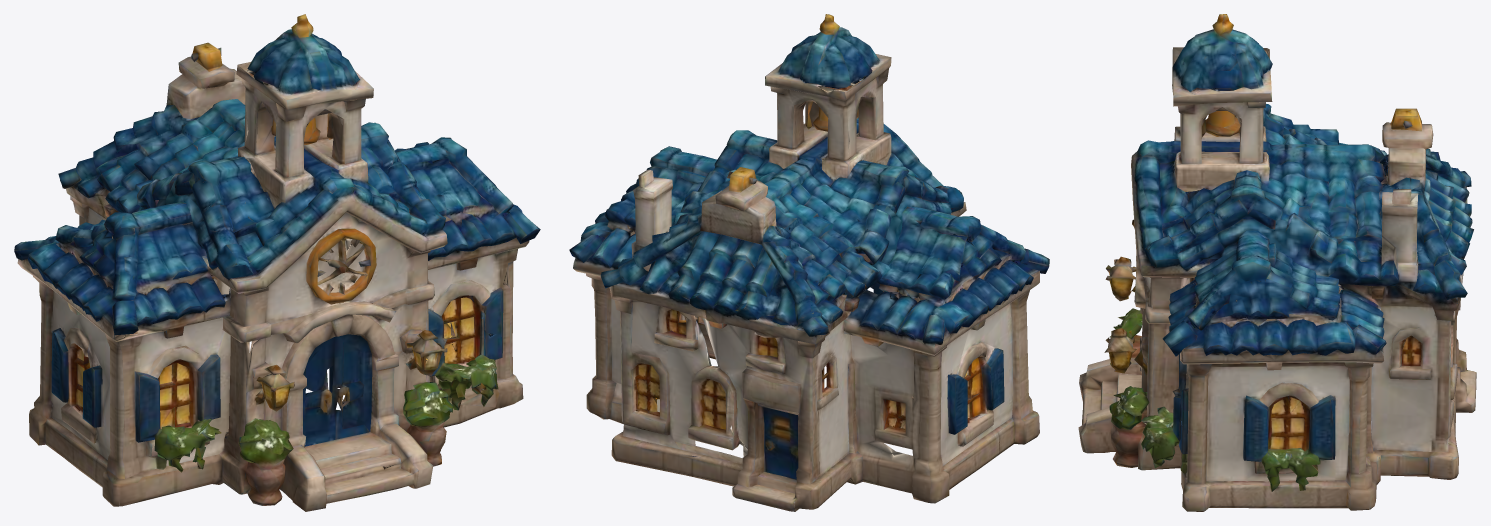
File: candidate.glb
3 views of the same model, side by side, from view 1: azimuth 30°, elevation 25°; view 2: azimuth 150°, elevation 25°; view 3: azimuth 270°, elevation 25° (orthographic). The views are drawn at different scales.
Visible parts, largest first — view 1: harbor__civic_hall__native_mobile; view 2: harbor__civic_hall__native_mobile; view 3: harbor__civic_hall__native_mobile.
Boxes of the visible parts, bbox=[...] form: harbor__civic_hall__native_mobile: bbox=[14, 14, 540, 511]; harbor__civic_hall__native_mobile: bbox=[569, 14, 1049, 511]; harbor__civic_hall__native_mobile: bbox=[1078, 14, 1476, 511].
Bounding box in the file's own units: 1 × 0.9661 × 0.8338.
1 material, 1 textured.
